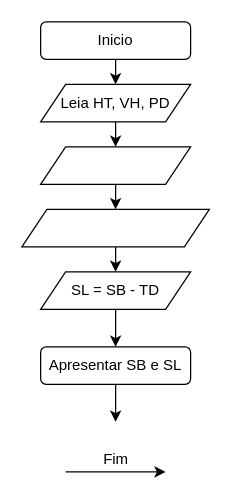
This 231x504 diagram has some shape labels left out. Each missing label, with the centre of its shape:
SB = HT * VH: point 115,165
TD = (PD / 100) * SB: point 115,227
